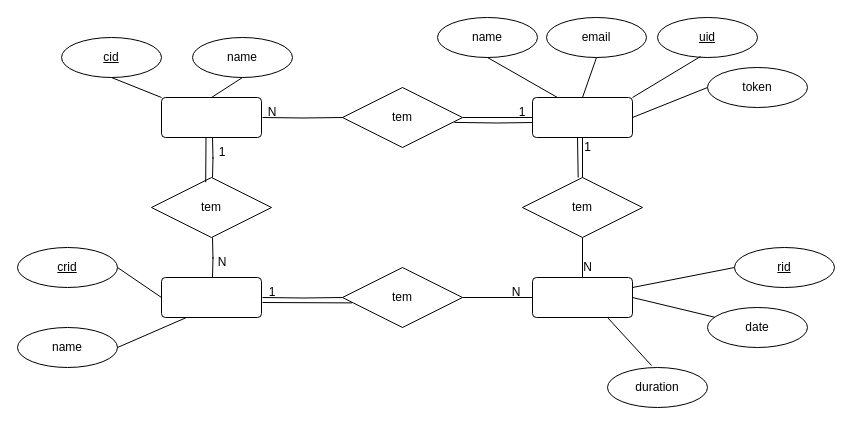
Image size: 852x425. Some labels were removed from this diagram. Each missing label, with the centre of its shape:
Club: pixel 211 117
Court: pixel 211 297
Rental: pixel 582 297
User: pixel 582 117
